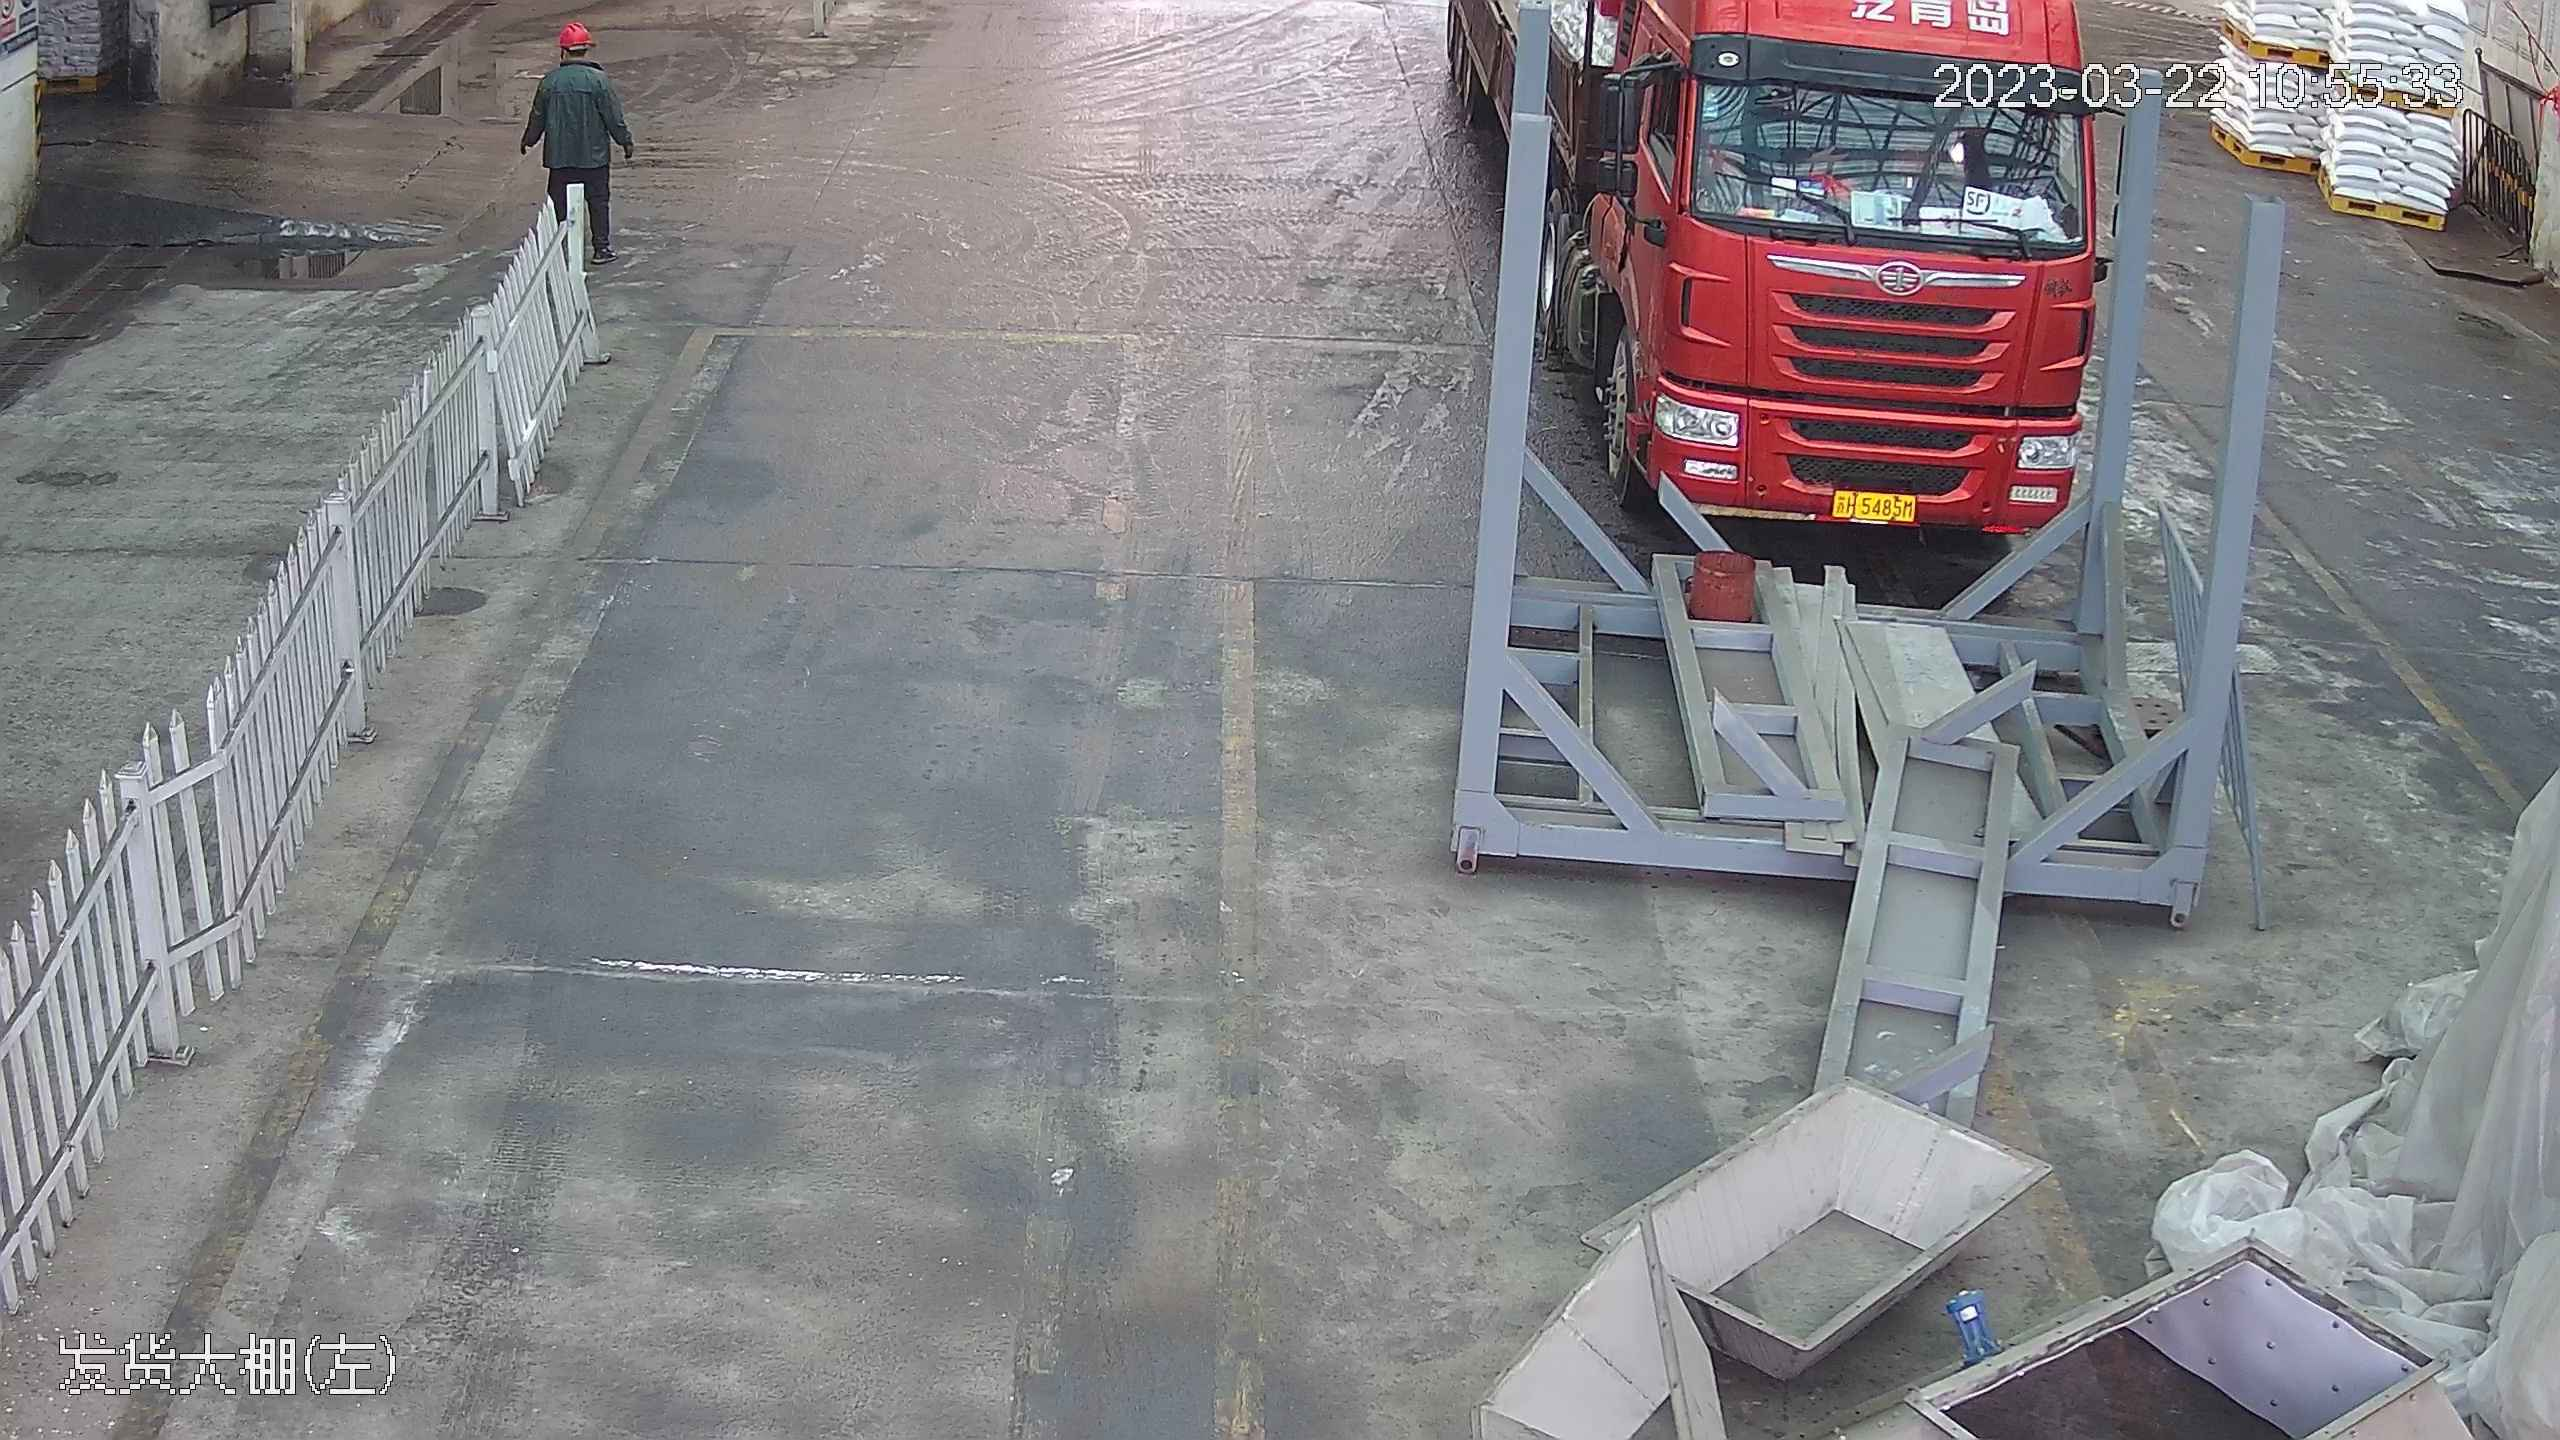head: (521, 13, 637, 269), (534, 18, 612, 99)
helmet: (554, 17, 595, 48)
people: (521, 14, 639, 273)
truck: (1498, 0, 2120, 536)
